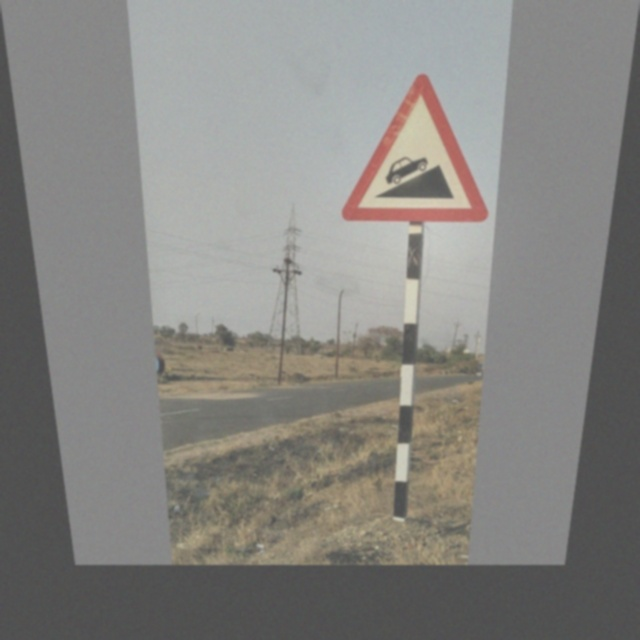Steep_Ascent: (334, 69, 503, 229)
